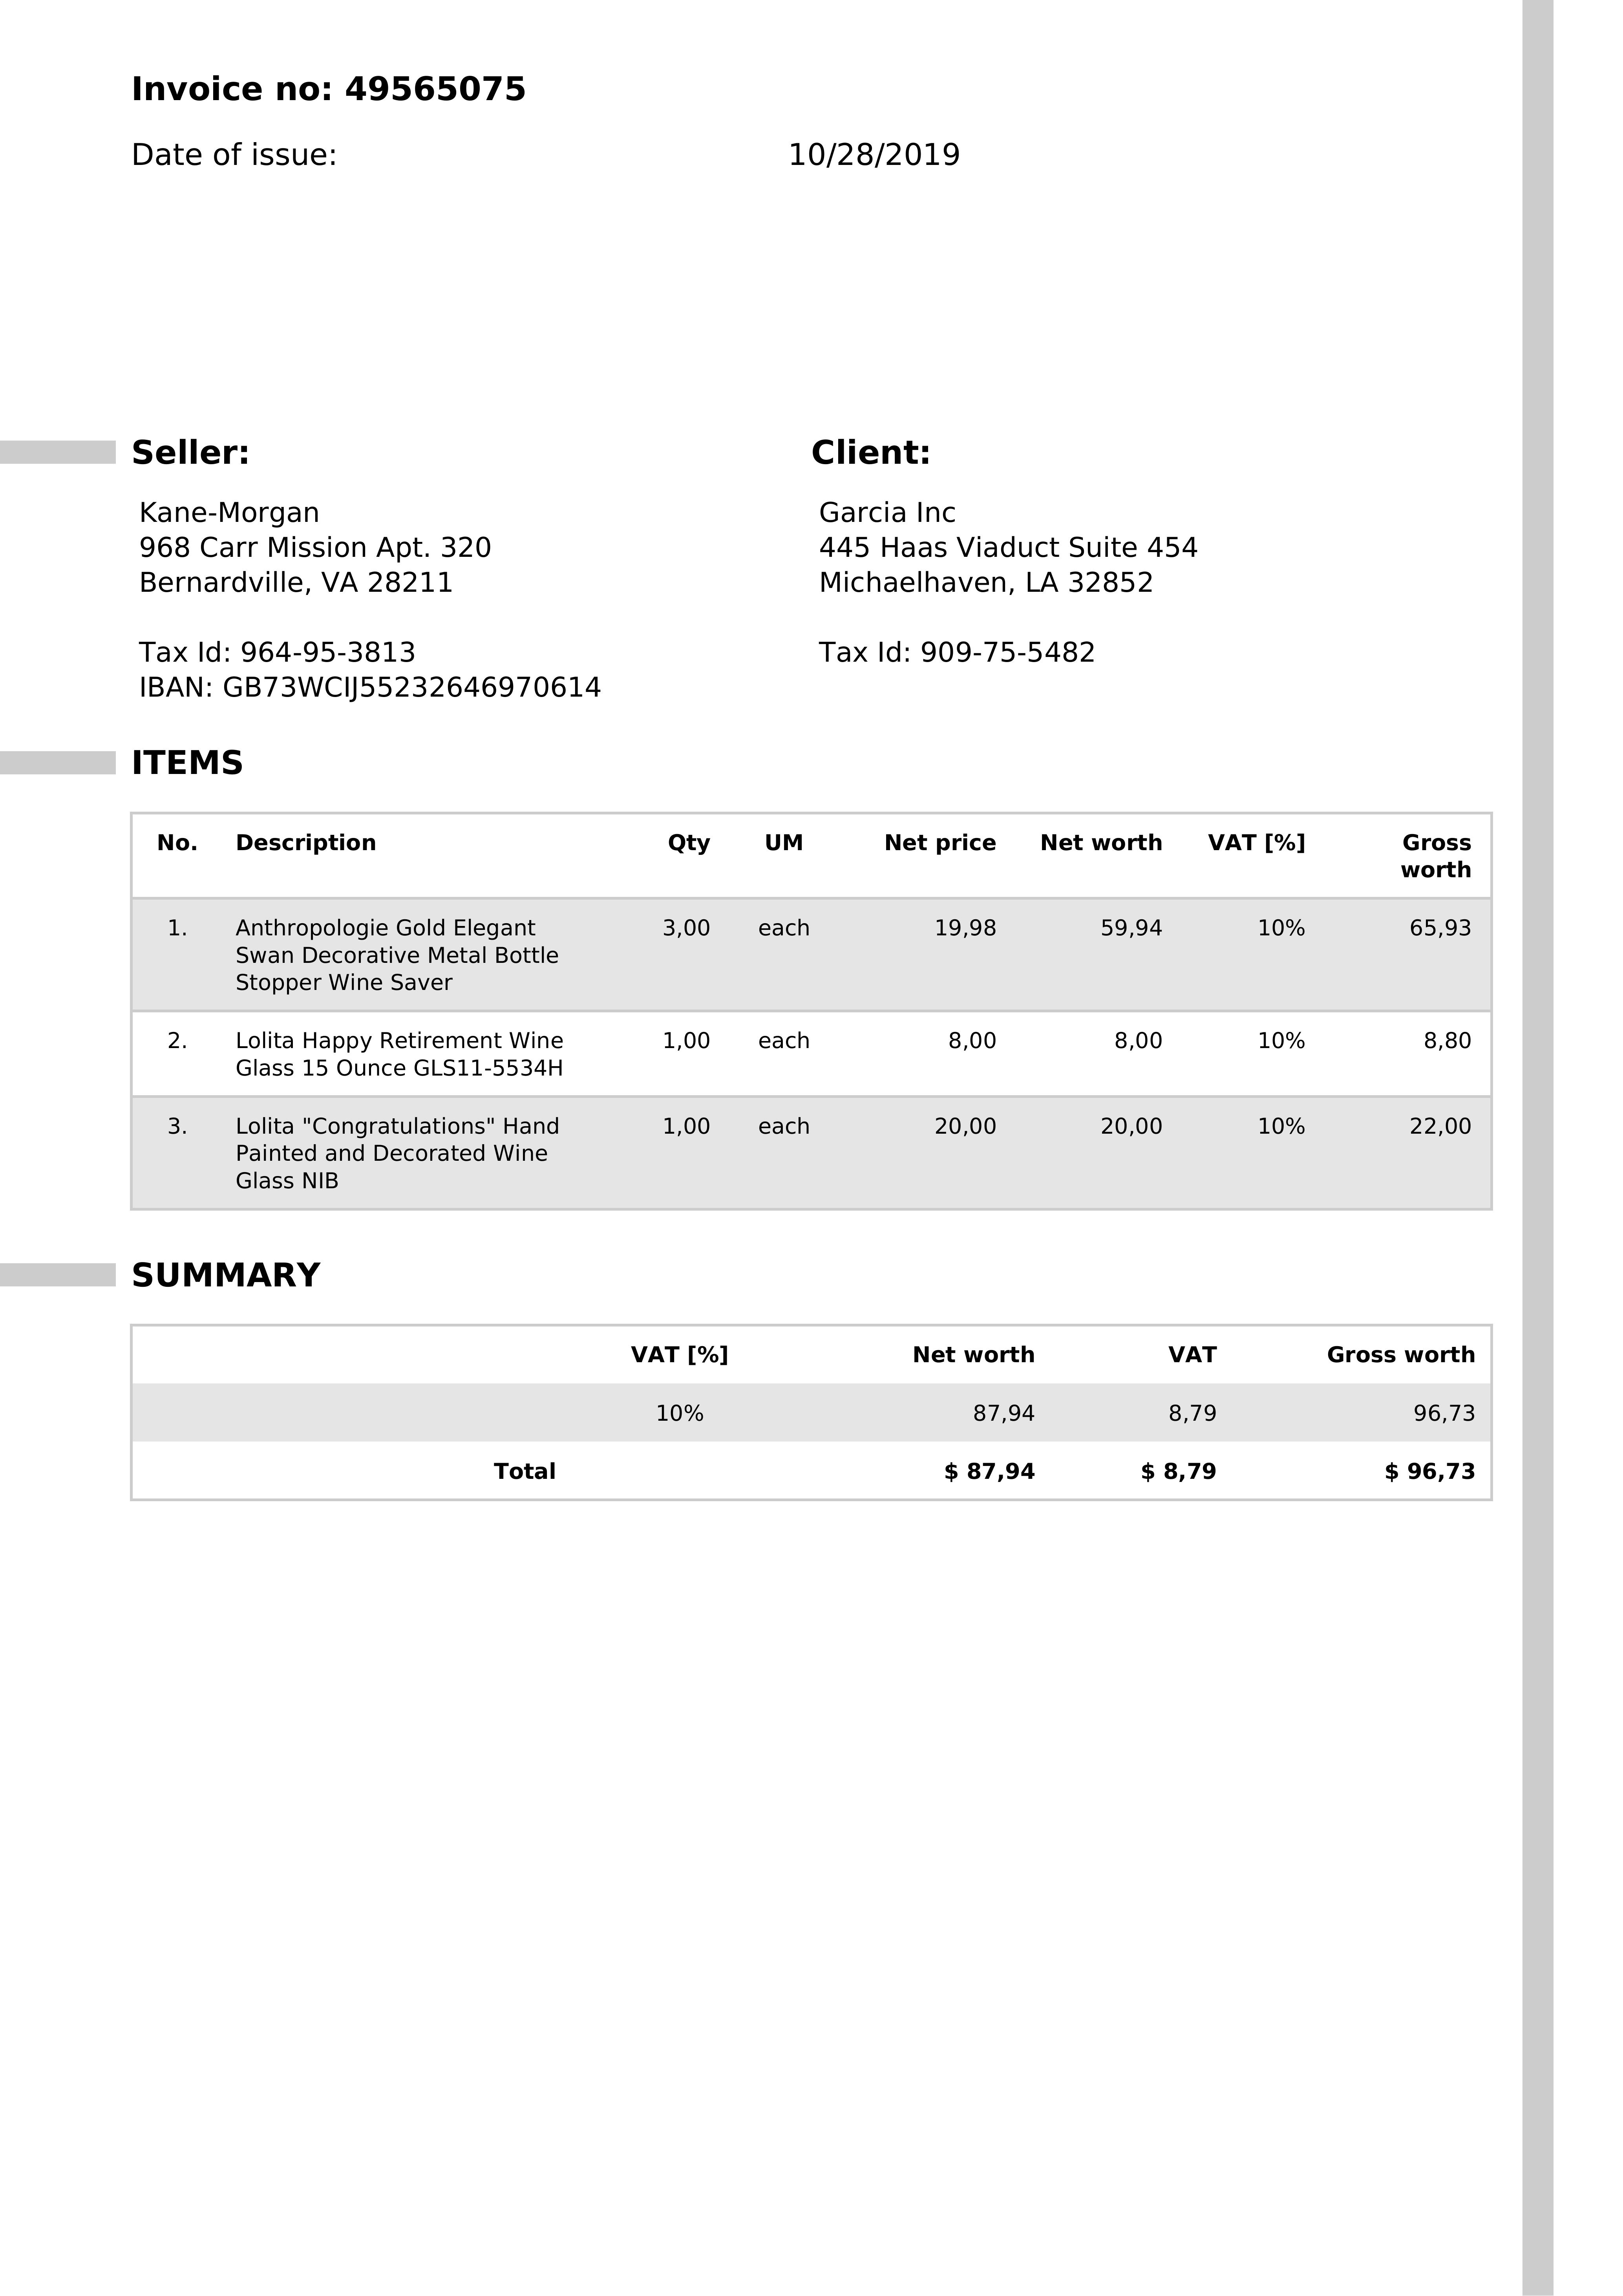column: (218, 817, 574, 1209), (1033, 817, 1180, 1207), (871, 817, 1010, 1207), (1201, 817, 1330, 1207), (1367, 815, 1491, 1207), (646, 817, 731, 1209), (752, 817, 836, 1207), (1312, 1325, 1490, 1498), (896, 1325, 1047, 1498), (613, 1328, 741, 1497), (1121, 1330, 1244, 1497), (478, 1328, 569, 1498)
